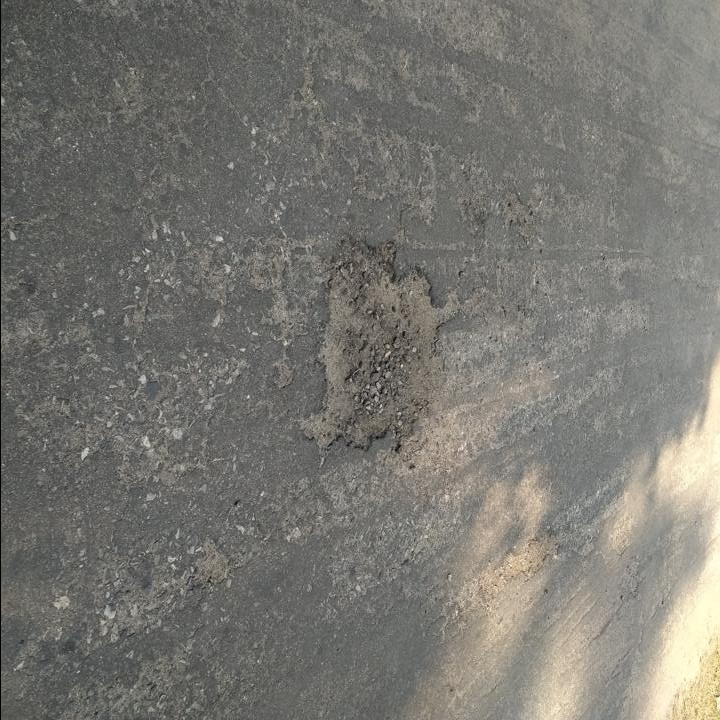pothole: (299, 227, 458, 465), (187, 530, 235, 590)
